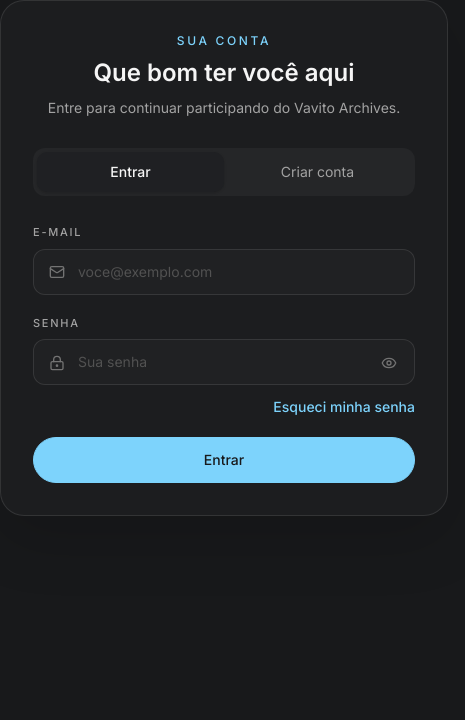
Test: AuthForm › aplica a política de senha ao criar uma conta
This screenshot has width=465, height=720.
Click the button with aria-label "Selecionar criação de conta": (318, 172) [224,152,411,192]
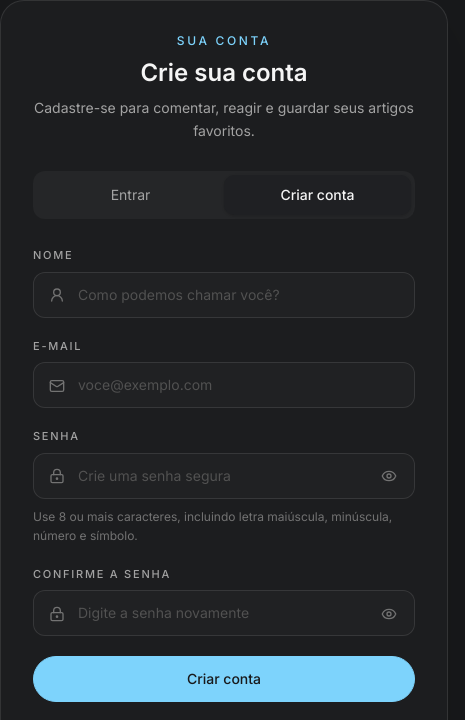
In the field labelled "Nome": (224, 294) [33,271,415,317], type "João"
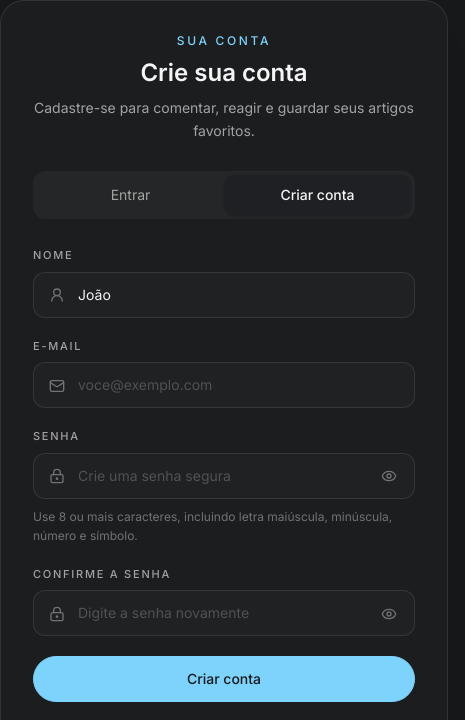
In the field labelled "E-mail": (224, 384) [33,362,415,408], type "joao@example.com"
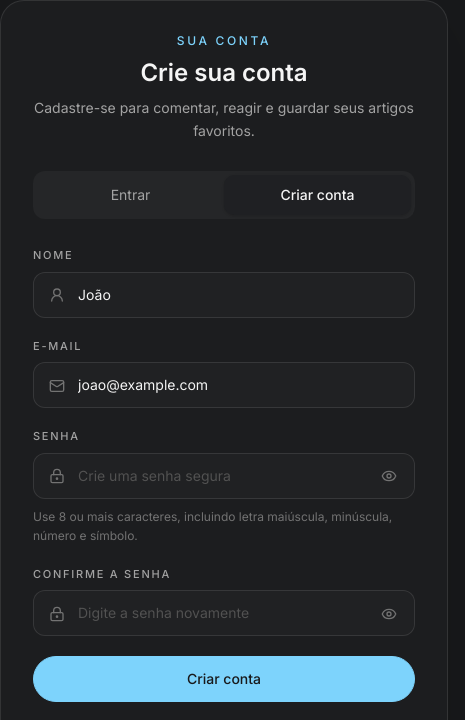
In the password field labelled "Senha": (224, 475) [33,452,415,498], type "simples"
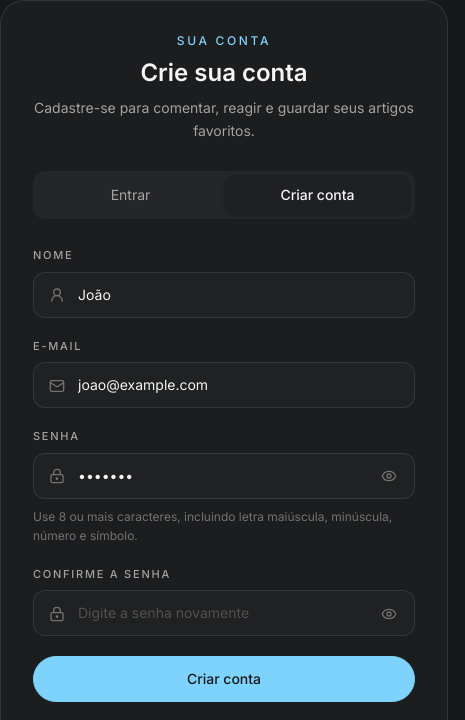
In the password field labelled "Confirme a senha": (224, 612) [33,590,415,636], type "diferente"
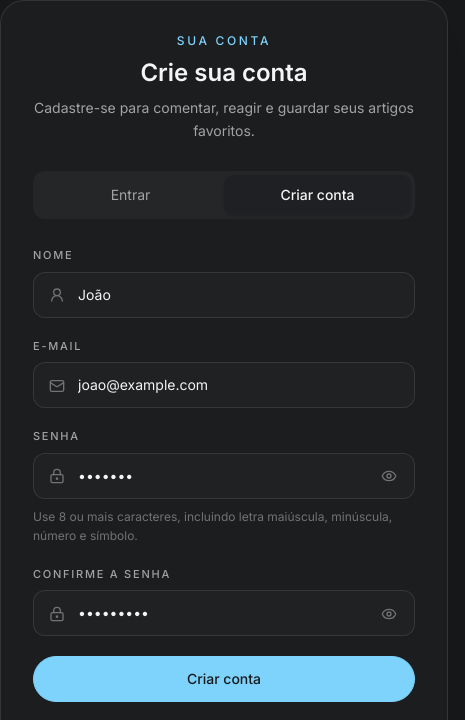
Click the button "Criar conta" below "Confirme a senha": (224, 678) [33,656,415,702]
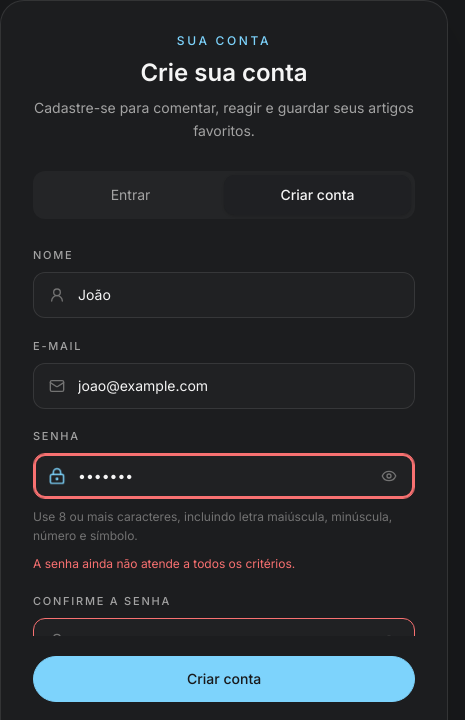
Check: the text "A senha ainda não atende a todos os critérios." is shown, box [33,555,295,570]
